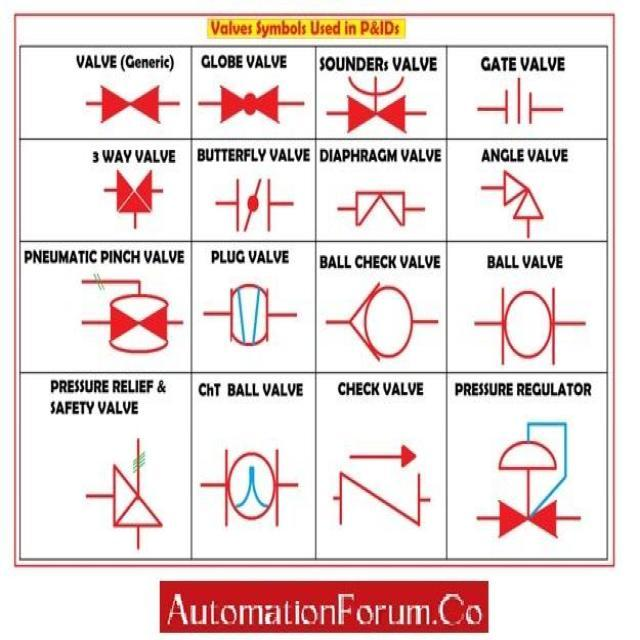3 Way Gate Valve: (96, 168, 164, 223)
Angle Valve: (480, 168, 562, 236)
Butterfly Valve: (212, 172, 298, 240)
Check Valve: (322, 430, 431, 538)
Closed Ball Valve: (213, 74, 291, 138)
Closed Gate Valve: (95, 80, 168, 130)
Diaphragm Valve: (346, 182, 415, 236)
PSV: (91, 437, 160, 536)
Pressure Regulator: (474, 403, 588, 545)
